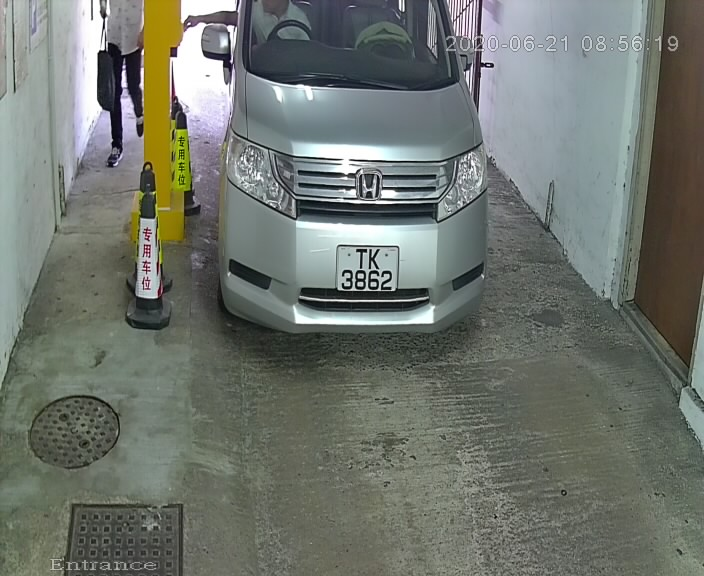privatecar: (186, 1, 509, 360)
